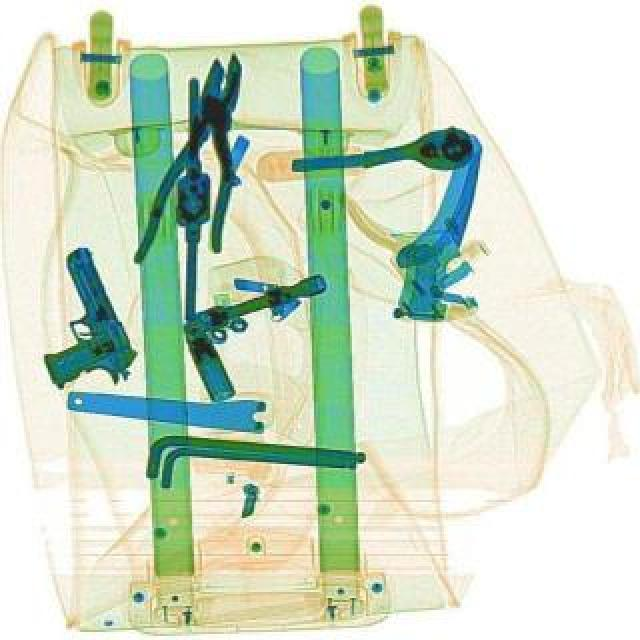gun: (4, 242, 144, 404)
wrench: (128, 46, 276, 282)
